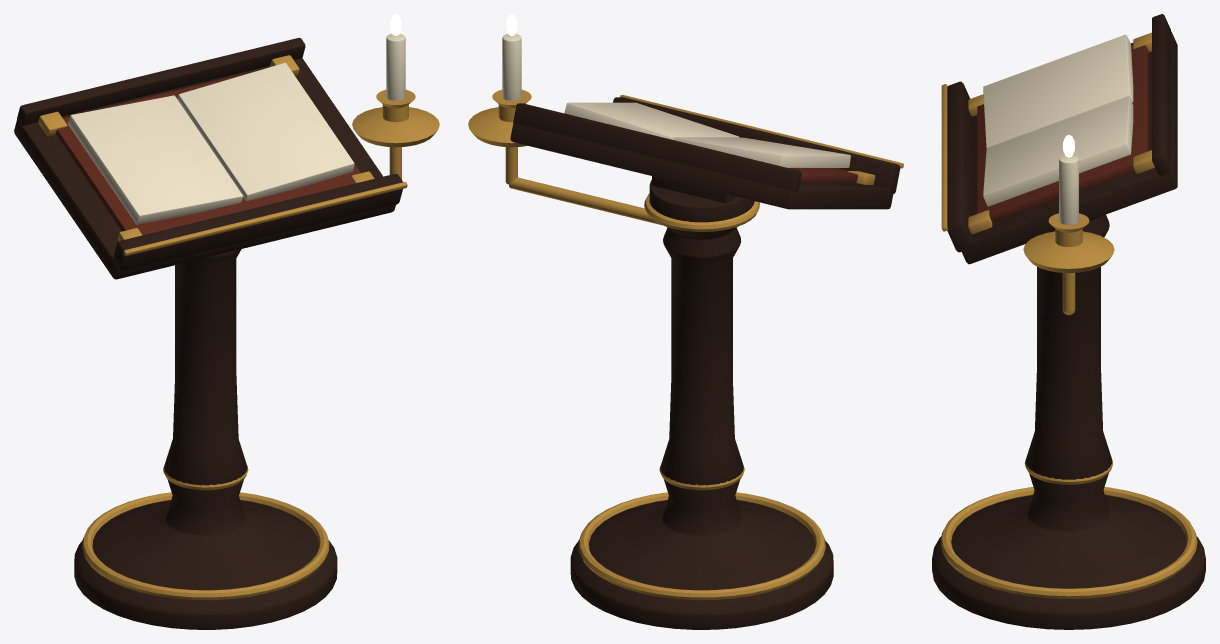
Rendered from prop_lectern.glb.
3 views of the same model, side by side, from view 1: azimuth 30°, elevation 25°; view 2: azimuth 150°, elevation 25°; view 3: azimuth 270°, elevation 25° (orthographic). The views are drawn at different scales.
Visible parts, largest first — view 1: prop_lectern; view 2: prop_lectern; view 3: prop_lectern.
Part boxes in pixels (x1,y1,x2,y2): prop_lectern: (14,14,439,629); prop_lectern: (468,14,903,629); prop_lectern: (932,14,1205,629).
Bounding box in the file's own units: 0.971 × 1.29 × 0.6.
